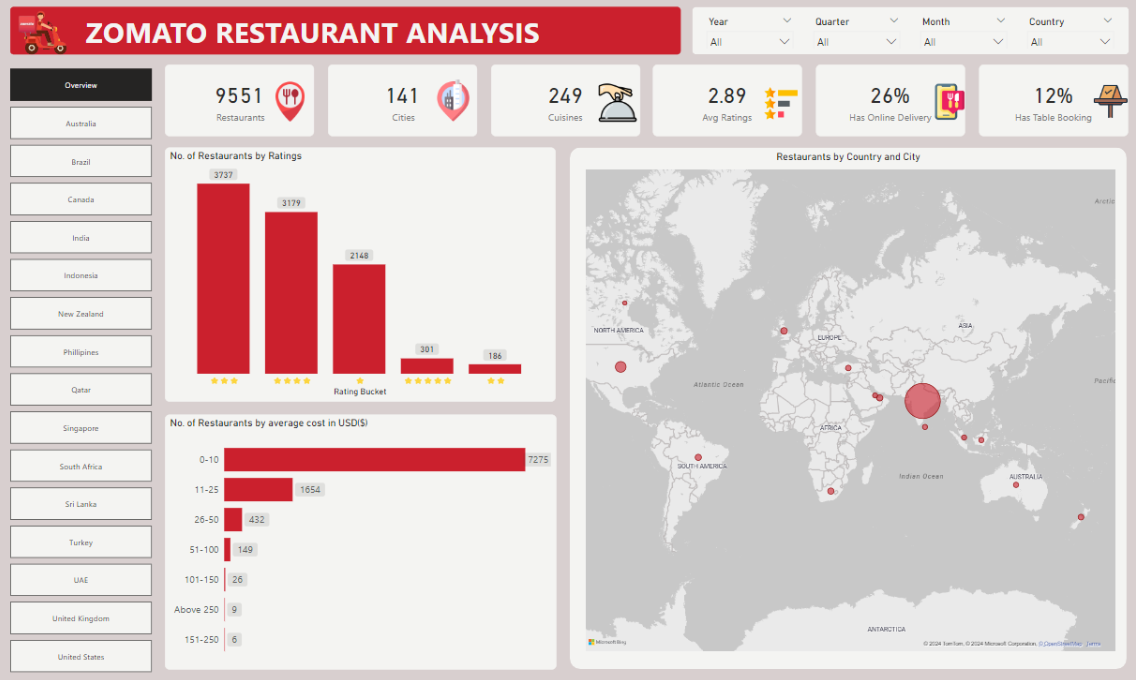

This screenshot's page, from the dashboard's own definition file:
{"tool":"powerbi","page":{"name":"Overview","canvas":[1920,1166],"ordinal":0},"visuals":[{"type":"shape","box":[964,252.8,935.6,876.5],"z":0},{"type":"textbox","box":[23.6,16.5,1127,80.3],"z":1000},{"type":"shape","box":[1169.5,16.5,733.7,80.1],"z":1000,"group":"g1"},{"type":"card","fields":{"Values":["Metrics.No. of Restaurants"]},"box":[283.5,113.4,250.4,120.5],"z":2000},{"type":"card","fields":{"Values":["Metrics.No. of Cities"]},"box":[557.6,113.4,250.4,120.5],"z":3000},{"type":"card","fields":{"Values":["Metrics.No. of Cuisines"]},"box":[831.6,113.4,250.4,120.5],"z":4000},{"type":"card","fields":{"Values":["Metrics.Avg Ratings"]},"box":[1103.3,113.4,250.4,120.5],"z":5000},{"type":"map","fields":{"Category":["Country Table.Country","Main.City"],"Size":["Metrics.No. of Restaurants"]},"box":[982.2,281.6,906.5,826],"z":6000},{"type":"columnChart","title":"No. of Restaurants by Ratings","fields":{"Category":["Main.Rating Bucket"],"Y":["Metrics.No. of Restaurants"]},"box":[283.5,252.8,656.8,427.6],"z":7000},{"type":"barChart","title":"No. of Restaurants by average cost in USD($)","fields":{"Category":["Main.Bucketed Average Cost"],"Y":["Metrics.No. of Restaurants"]},"box":[284,700.6,658,428.4],"z":8000},{"type":"card","fields":{"Values":["Metrics.% Restaurants with Online Delivery"]},"box":[1377.4,113.4,250.4,120.5],"z":9000},{"type":"slicer","fields":{"Values":["Dim_Date.Year"]},"box":[1181.3,24.5,170.4,64.1],"z":10000,"group":"g1"},{"type":"card","fields":{"Values":["Metrics.% Restaurants with Table Booking"]},"box":[1651.5,113.4,250.4,120.5],"z":10000},{"type":"slicer","fields":{"Values":["Dim_Date.Quarter"]},"box":[1361.2,24.5,170.4,64.1],"z":11000,"group":"g1"},{"type":"pageNavigator","box":[23.6,120.5,238.6,1025.4],"z":11000},{"type":"image","box":[0,7.1,158.3,106.3],"z":12000},{"type":"slicer","fields":{"Values":["Dim_Date.MonthName"]},"box":[1541.1,24.5,170.4,64.1],"z":12000,"group":"g1"},{"type":"group","id":"g1","title":"Group 1","box":[1169.5,16.5,732.4,80],"z":13000},{"type":"slicer","fields":{"Values":["Country Table.Country"]},"box":[1721,24.5,170.4,64.1],"z":13000,"group":"g1"},{"type":"image","box":[451.3,120.5,85.1,111],"z":14000},{"type":"image","box":[727.7,113.4,80.3,120.5],"z":15000},{"type":"image","box":[1006.5,120.5,75.6,113.4],"z":16000},{"type":"image","box":[1285.3,115.8,66.2,125.2],"z":17000},{"type":"image","box":[1835.8,115.8,73.2,118.1],"z":18000},{"type":"image","box":[1566.4,115.8,70.9,120.5],"z":19000}]}

Visuals, with their boxes in screenshot pixels (x1, y1, x2, y2), scaled from the page's 1920x1166 canvas onto the 1136x680 screenshot:
shape: [570, 147, 1124, 659]
textbox: [14, 10, 681, 56]
shape: [692, 10, 1126, 56]
card - Metrics.No. of Restaurants: [168, 66, 316, 136]
card - Metrics.No. of Cities: [330, 66, 478, 136]
card - Metrics.No. of Cuisines: [492, 66, 640, 136]
card - Metrics.Avg Ratings: [653, 66, 801, 136]
map - Country Table.Country x Main.City: [581, 164, 1117, 646]
"No. of Restaurants by Ratings" columnChart: [168, 147, 556, 397]
"No. of Restaurants by average cost in USD($)" barChart: [168, 409, 557, 658]
card - Metrics.% Restaurants with Online Delivery: [815, 66, 963, 136]
slicer - Dim_Date.Year: [699, 14, 800, 52]
card - Metrics.% Restaurants with Table Booking: [977, 66, 1125, 136]
slicer - Dim_Date.Quarter: [805, 14, 906, 52]
pageNavigator: [14, 70, 155, 668]
image: [0, 4, 94, 66]
slicer - Dim_Date.MonthName: [912, 14, 1013, 52]
"Group 1" group: [692, 10, 1125, 56]
slicer - Country Table.Country: [1018, 14, 1119, 52]
image: [267, 70, 317, 135]
image: [431, 66, 478, 136]
image: [596, 70, 640, 136]
image: [760, 68, 800, 141]
image: [1086, 68, 1129, 136]
image: [927, 68, 969, 138]
